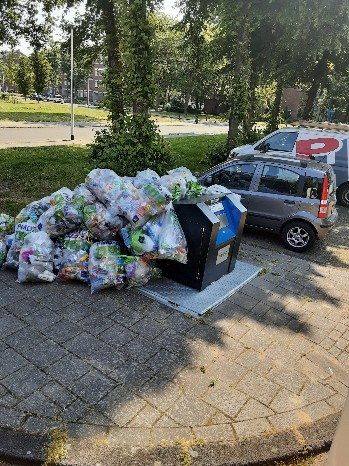Container: (168, 192, 242, 286)
Rest: (0, 227, 62, 282), (61, 212, 120, 259), (21, 195, 71, 245), (106, 244, 151, 292), (150, 209, 186, 261), (155, 169, 205, 202), (88, 173, 130, 205), (121, 166, 164, 196)
Voertuig: (207, 143, 324, 242), (261, 122, 349, 194)
